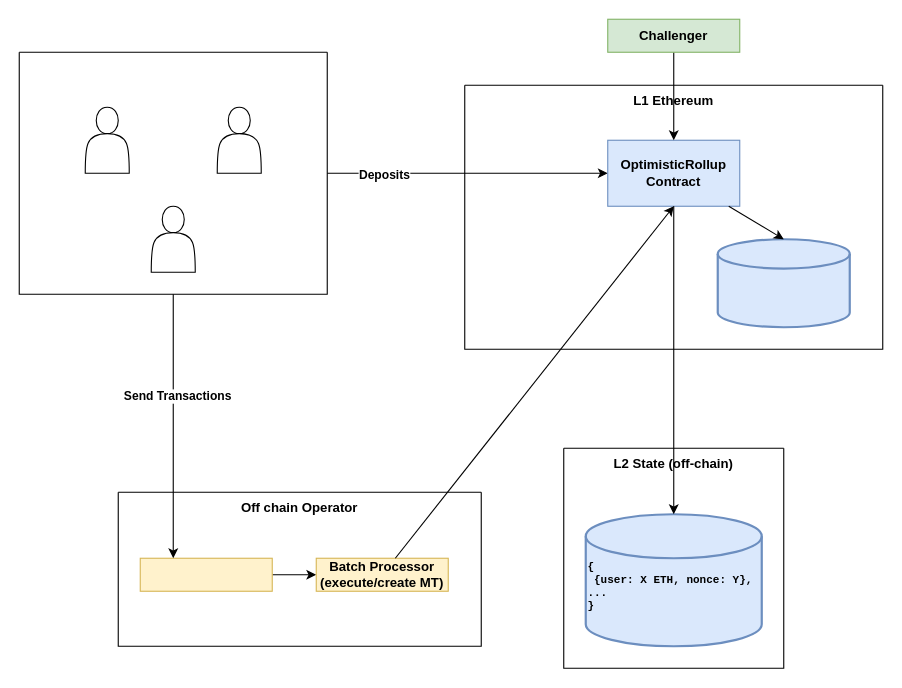
Some shapes in this 902 by 688 pixel diagram are drawn without their labels. Each missing label, with the box of its shape:
State Root: 0xabc.. TVL: X ETH Block: #0: (716, 238, 850, 328)
Tx pool: (139, 557, 272, 591)
Users: (18, 51, 327, 294)
